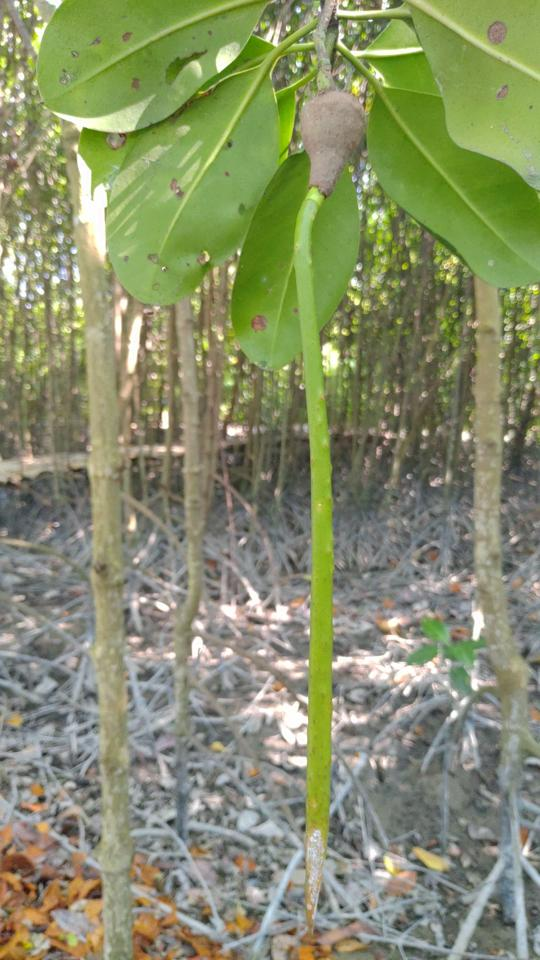setengah matang: (283, 77, 375, 936)
